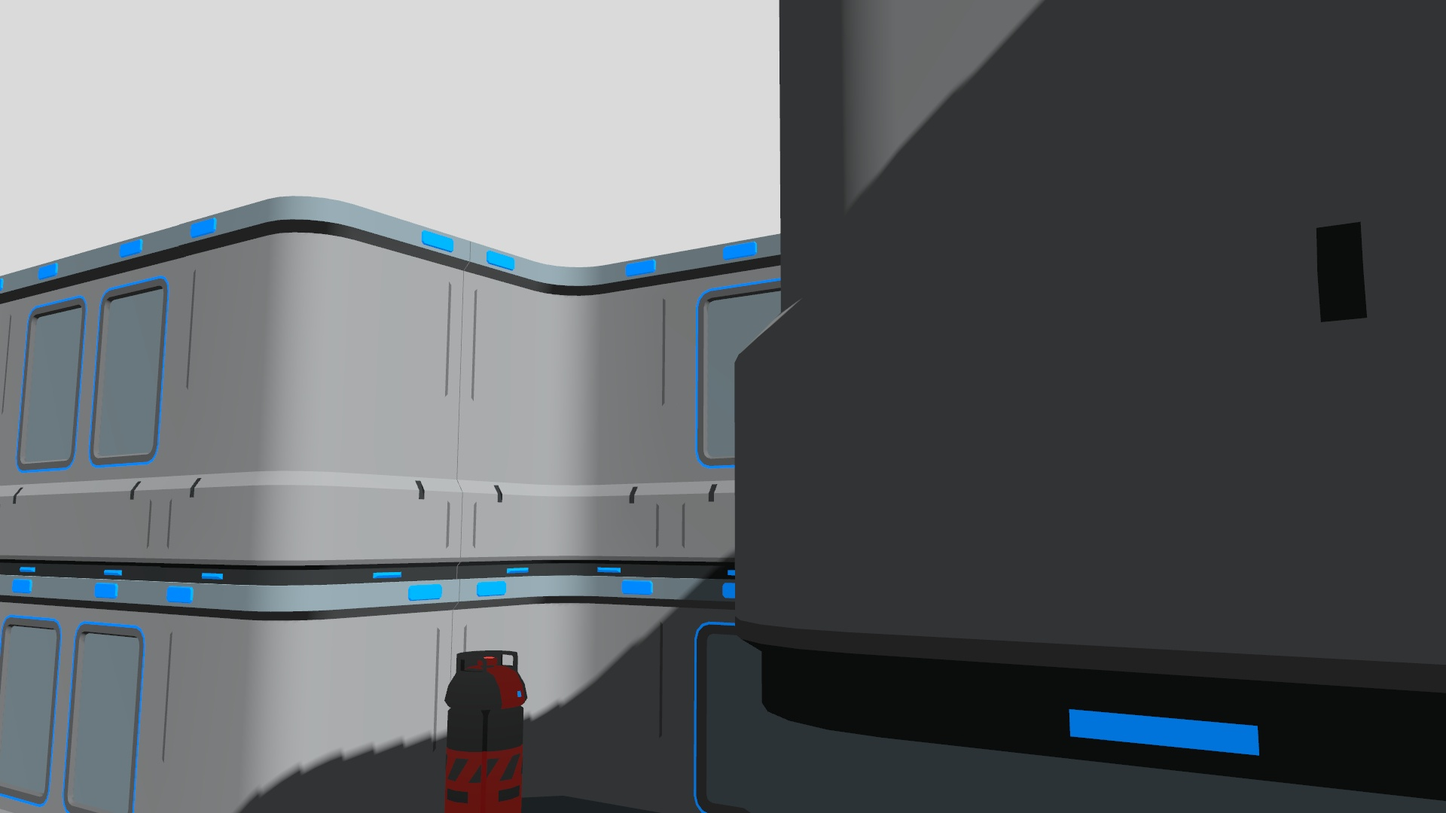red_barrel: (445, 647, 529, 813)
